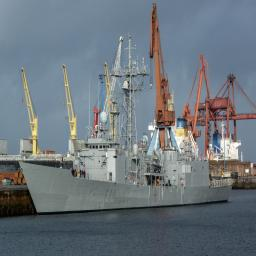Fragata: (17, 72, 234, 220)
